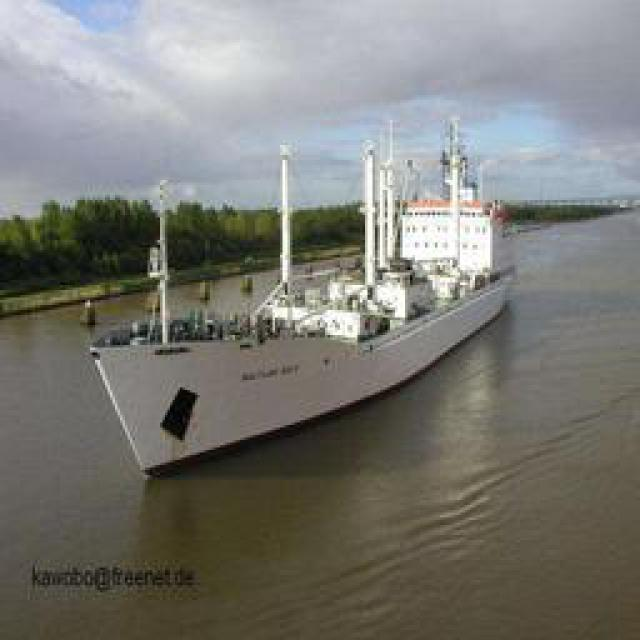Ship: (72, 116, 512, 501)
